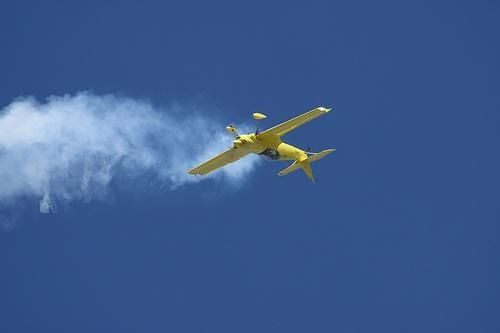aeroplane: (185, 106, 337, 190)
